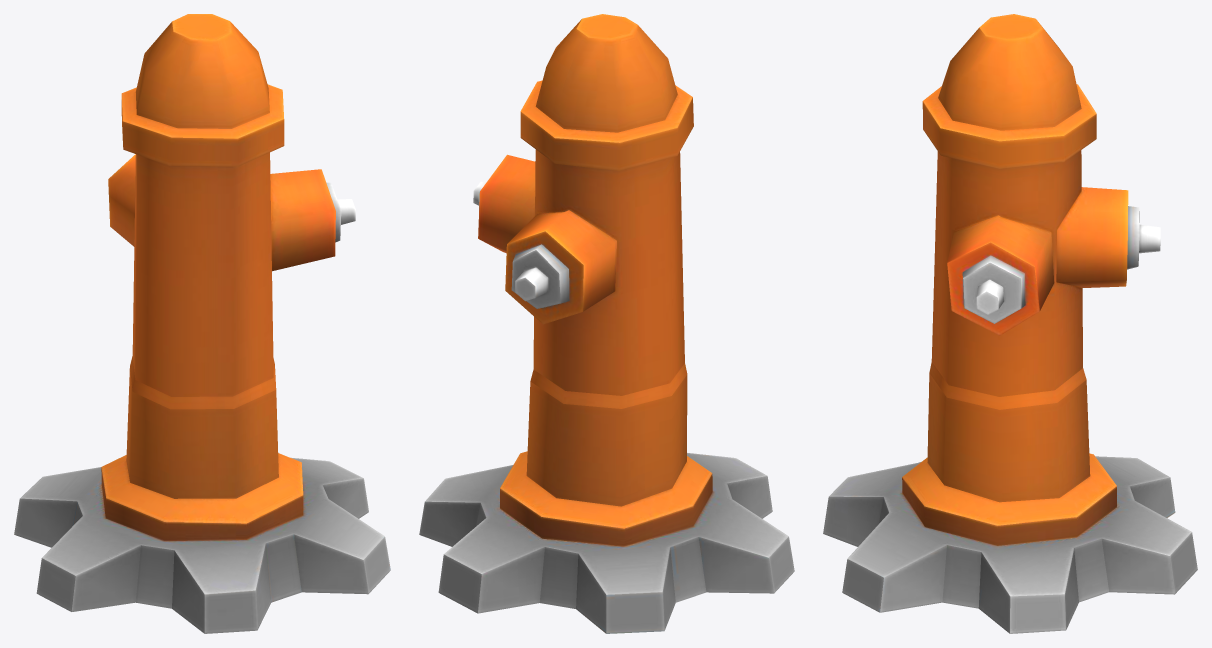
File: obj_hydrant01_base.gltf
The picture shows the model from 3 angles, left to right: view 1: azimuth 30°, elevation 25°; view 2: azimuth 150°, elevation 25°; view 3: azimuth 270°, elevation 25°; orthographic projection.
Visible parts, largest first — view 1: obj_hydrant01_base; view 2: obj_hydrant01_base; view 3: obj_hydrant01_base.
Boxes of the visible parts, x1,y1,x2,y2 form: obj_hydrant01_base: (14, 14, 390, 633); obj_hydrant01_base: (419, 14, 794, 633); obj_hydrant01_base: (823, 14, 1197, 633).
Size of what is drawn, in the model's own units: 0.7239 by 1.09 by 0.7065.
Materials: 1 (1 with a texture image).
